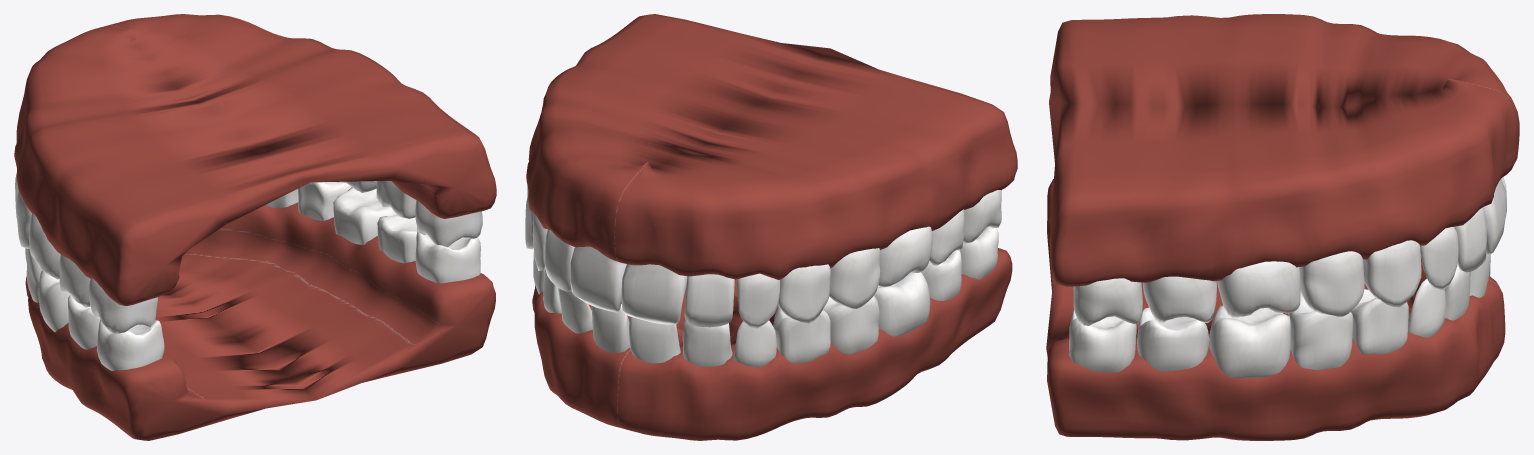
The model's file is 3DTeethModel.glb.
The picture shows the model from 3 angles, left to right: view 1: azimuth 30°, elevation 25°; view 2: azimuth 150°, elevation 25°; view 3: azimuth 270°, elevation 25°; orthographic projection. The views are drawn at different scales.
Parts seen in each view (by area): view 1: UpperJaw, LowerJaw, Third_Molar_L, Third_Molar_U, First_Molar_L, Second_Molar_L, Second_Molar_U, Second_Bicuspid_L, First_Molar_U, Second_Bicuspid_U; view 2: UpperJaw, LowerJaw, Incisor_Central_U, Lateral_Incisor_U, Incisor_Central_L, Lateral_Incisor_L, First_Bicuspid_U, First_Molar_L, First_Bicuspid_L, Cuspid_U, Second_Bicuspid_U, Second_Bicuspid_L (+6 smaller); view 3: UpperJaw, LowerJaw, First_Molar_L, First_Molar_U, Second_Bicuspid_L, Second_Molar_L, Second_Bicuspid_U, Third_Molar_L, First_Bicuspid_U, Second_Molar_U, First_Bicuspid_L, Third_Molar_U (+6 smaller).
Boxes of the visible parts, left/top/right/bottom form: UpperJaw: left=14, top=14, right=496, bottom=305; LowerJaw: left=25, top=202, right=495, bottom=440; Third_Molar_L: left=97, top=230, right=480, bottom=370; Third_Molar_U: left=88, top=200, right=482, bottom=333; First_Molar_L: left=38, top=187, right=396, bottom=332; Second_Molar_L: left=68, top=215, right=417, bottom=349; Second_Molar_U: left=59, top=181, right=416, bottom=307; Second_Bicuspid_L: left=26, top=182, right=351, bottom=302; First_Molar_U: left=29, top=181, right=376, bottom=279; Second_Bicuspid_U: left=16, top=190, right=31, bottom=248; UpperJaw: left=526, top=14, right=1017, bottom=279; LowerJaw: left=532, top=248, right=1012, bottom=440; Incisor_Central_U: left=570, top=246, right=687, bottom=324; Lateral_Incisor_U: left=544, top=229, right=734, bottom=327; Incisor_Central_L: left=591, top=304, right=680, bottom=363; Lateral_Incisor_L: left=558, top=288, right=732, bottom=366; First_Bicuspid_U: left=525, top=194, right=830, bottom=323; First_Molar_L: left=874, top=272, right=930, bottom=336; First_Bicuspid_L: left=533, top=252, right=830, bottom=363; Cuspid_U: left=532, top=214, right=780, bottom=329; Second_Bicuspid_U: left=527, top=185, right=880, bottom=308; Second_Bicuspid_L: left=823, top=296, right=879, bottom=354; UpperJaw: left=1049, top=14, right=1519, bottom=286; LowerJaw: left=1046, top=179, right=1505, bottom=440; First_Molar_L: left=1209, top=305, right=1290, bottom=377; First_Molar_U: left=1217, top=261, right=1300, bottom=317; Second_Bicuspid_L: left=1288, top=291, right=1353, bottom=369; Second_Molar_L: left=1137, top=307, right=1209, bottom=371; Second_Bicuspid_U: left=1299, top=251, right=1364, bottom=316; Third_Molar_L: left=1069, top=309, right=1136, bottom=372; First_Bicuspid_U: left=1363, top=240, right=1421, bottom=307; Second_Molar_U: left=1143, top=276, right=1216, bottom=323; First_Bicuspid_L: left=1351, top=289, right=1408, bottom=354; Third_Molar_U: left=1073, top=278, right=1142, bottom=325.
Size of the model in its own units: 2.14 by 1.39 by 2.06.
Materials: 2 (2 with a texture image).
